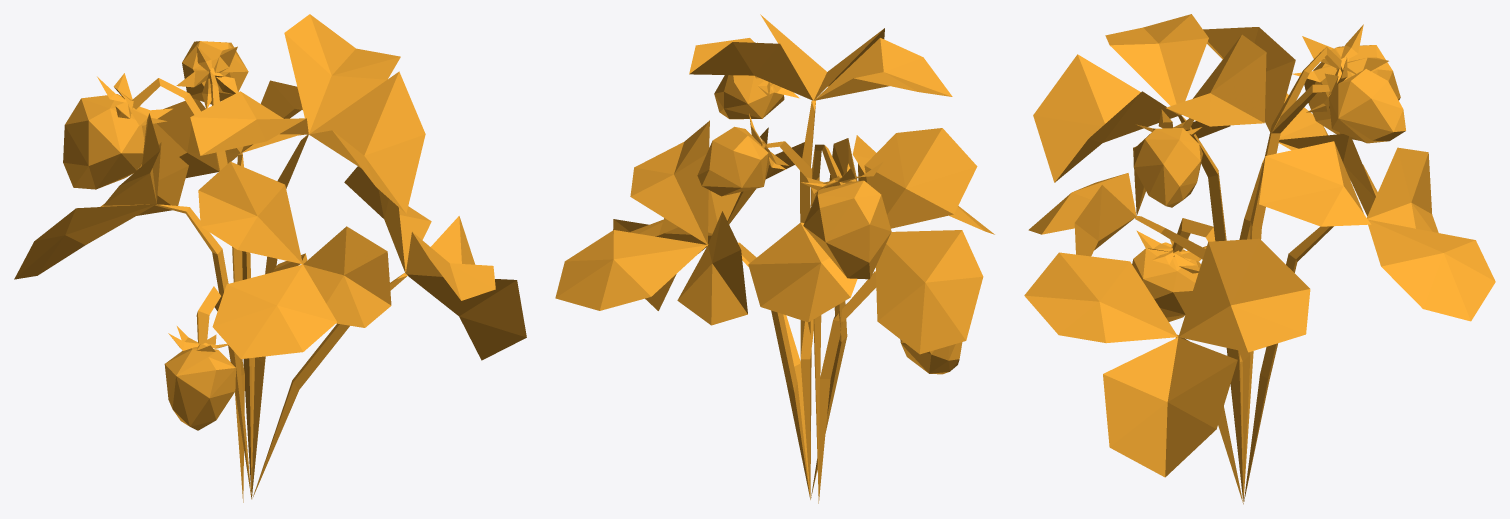
Rendered from SM_Strawberry_Plant_Ripe_B.fbx.
3 renders of one model, left to right at view 1: azimuth 30°, elevation 25°; view 2: azimuth 150°, elevation 25°; view 3: azimuth 270°, elevation 25°, orthographic. The views are drawn at different scales.
Visible parts, largest first — view 1: strawberry-plant-ripe-b; view 2: strawberry-plant-ripe-b; view 3: strawberry-plant-ripe-b.
Part boxes in pixels (box(x1,y1,x2,y2)): strawberry-plant-ripe-b: box(14, 14, 526, 502); strawberry-plant-ripe-b: box(555, 14, 994, 503); strawberry-plant-ripe-b: box(1024, 14, 1495, 504).
Size of the model in its own units: 0.337 by 0.3604 by 0.3139.
